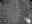person: (25, 17, 31, 23)
